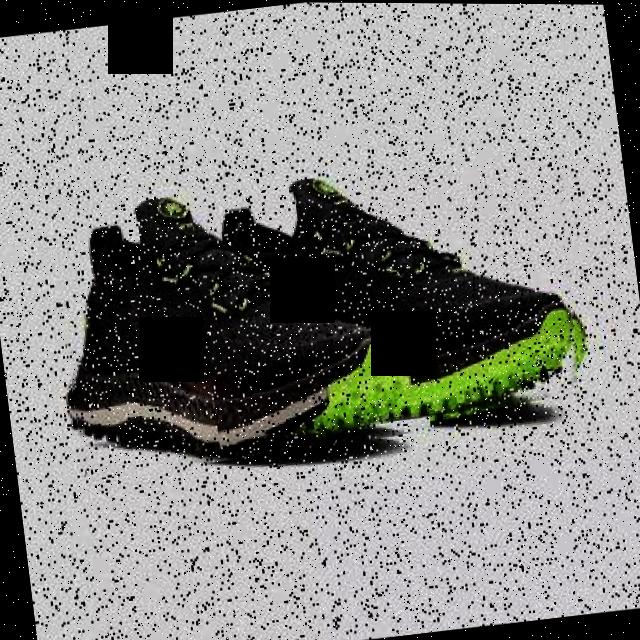shoe: (188, 146, 594, 448), (46, 168, 432, 483)
